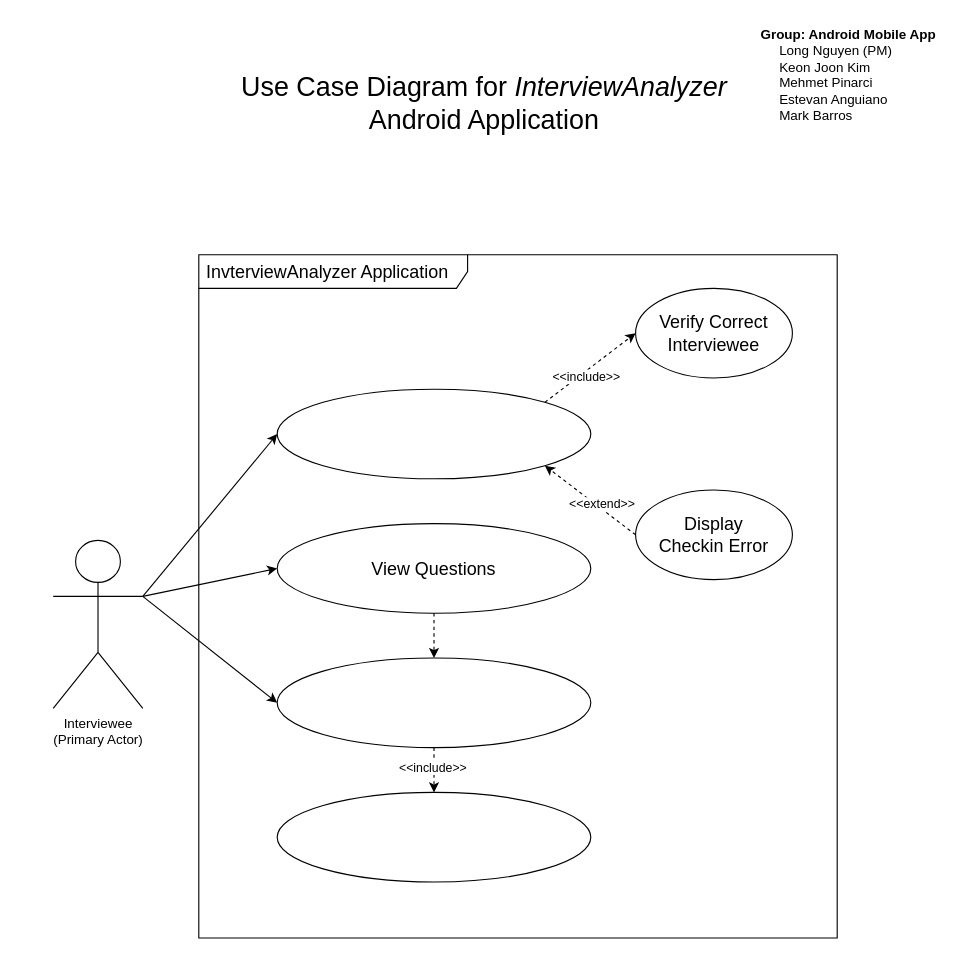
Some shapes in this 968 by 958 pixel diagram are drawn without their labels. Here are the shapes that lost their labels. From the top down, the centre of each, then its label:
At (x=433, y=433): "Checkin for Interview".
At (x=433, y=702): "Respond to Questions [visual/audial response]".
At (x=433, y=836): "Record Interview".
